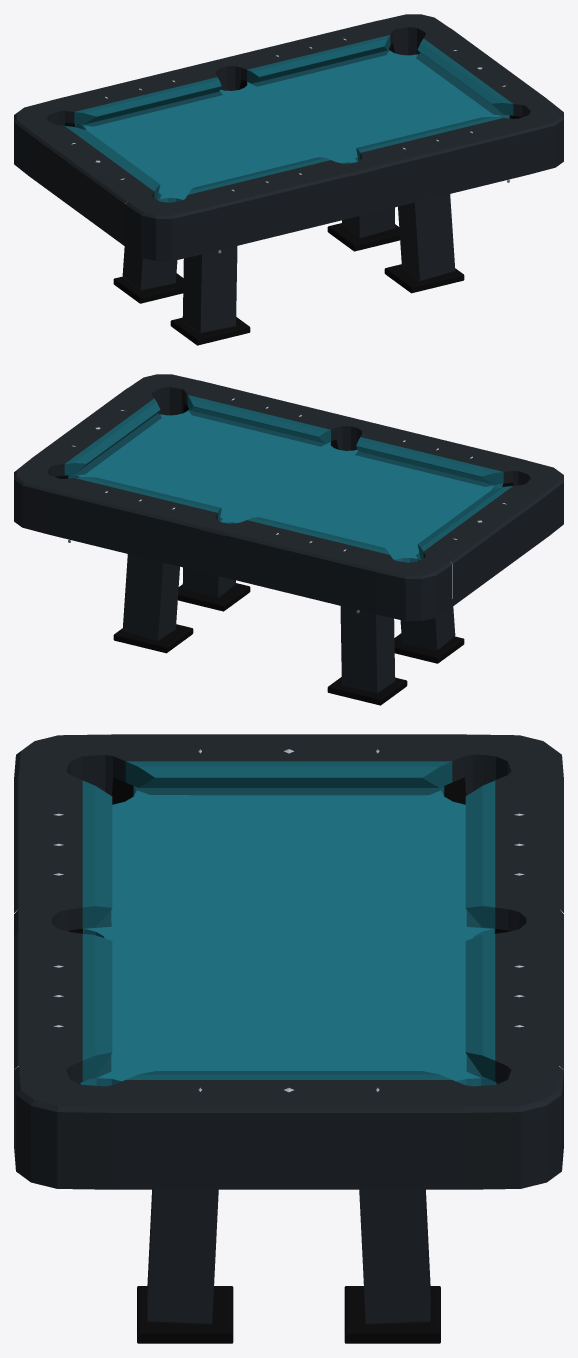
Rendered from table-eightball-5-american-graphite.glb.
3 renders of one model, top to bottom at view 1: azimuth 30°, elevation 25°; view 2: azimuth 150°, elevation 25°; view 3: azimuth 270°, elevation 25°, orthographic. The views are drawn at different scales.
Visible parts, largest first — view 1: table-eightball-5-american-graphite, break-builder-table-support; view 2: table-eightball-5-american-graphite, break-builder-table-support; view 3: table-eightball-5-american-graphite, break-builder-table-support.
Boxes of the visible parts, x1,y1,x2,y2 form: table-eightball-5-american-graphite: (14,14,563,261); break-builder-table-support: (113,194,464,345); table-eightball-5-american-graphite: (14,374,563,621); break-builder-table-support: (113,554,464,705); table-eightball-5-american-graphite: (14,734,563,1189); break-builder-table-support: (137,1189,440,1343).
Bounding box in the file's own units: 1.64 × 0.6245 × 1.01.
Materials: 23 (1 with a texture image).
